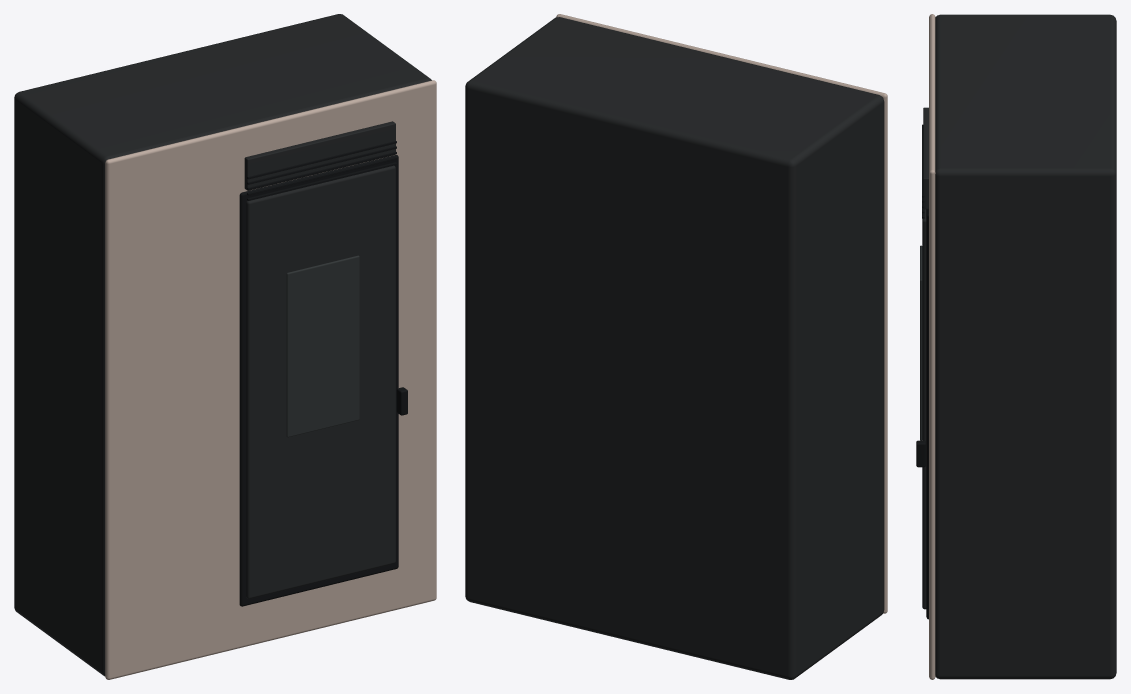
Rendered from nordica-annabella-plus-50-tortora-matt.glb.
The picture shows the model from 3 angles, left to right: view 1: azimuth 30°, elevation 25°; view 2: azimuth 150°, elevation 25°; view 3: azimuth 270°, elevation 25°; orthographic projection.
Parts seen in each view (by area): view 1: Rivestimento frontale, Corpo posteriore, Sportello, Vetro porta, Cornice porta, Sfondo griglia; view 2: Corpo posteriore, Rivestimento frontale; view 3: Corpo posteriore, Rivestimento frontale, Sportello, Cornice porta, Sfondo griglia, Vetro porta.
Boxes of the visible parts, x1,y1,x2,y2 form: Rivestimento frontale: [105, 80, 436, 679]; Corpo posteriore: [14, 14, 431, 676]; Sportello: [246, 165, 395, 598]; Vetro porta: [286, 255, 359, 437]; Cornice porta: [239, 155, 398, 606]; Sfondo griglia: [244, 121, 395, 190]; Corpo posteriore: [465, 17, 884, 679]; Rivestimento frontale: [556, 14, 887, 613]; Corpo posteriore: [935, 14, 1116, 679]; Rivestimento frontale: [929, 14, 935, 679]; Sportello: [922, 209, 926, 609]; Cornice porta: [926, 209, 928, 619]; Sfondo griglia: [923, 107, 928, 209]; Vetro porta: [920, 245, 922, 440].
Size of the model in its own units: 0.703 by 1.06 by 0.376.
